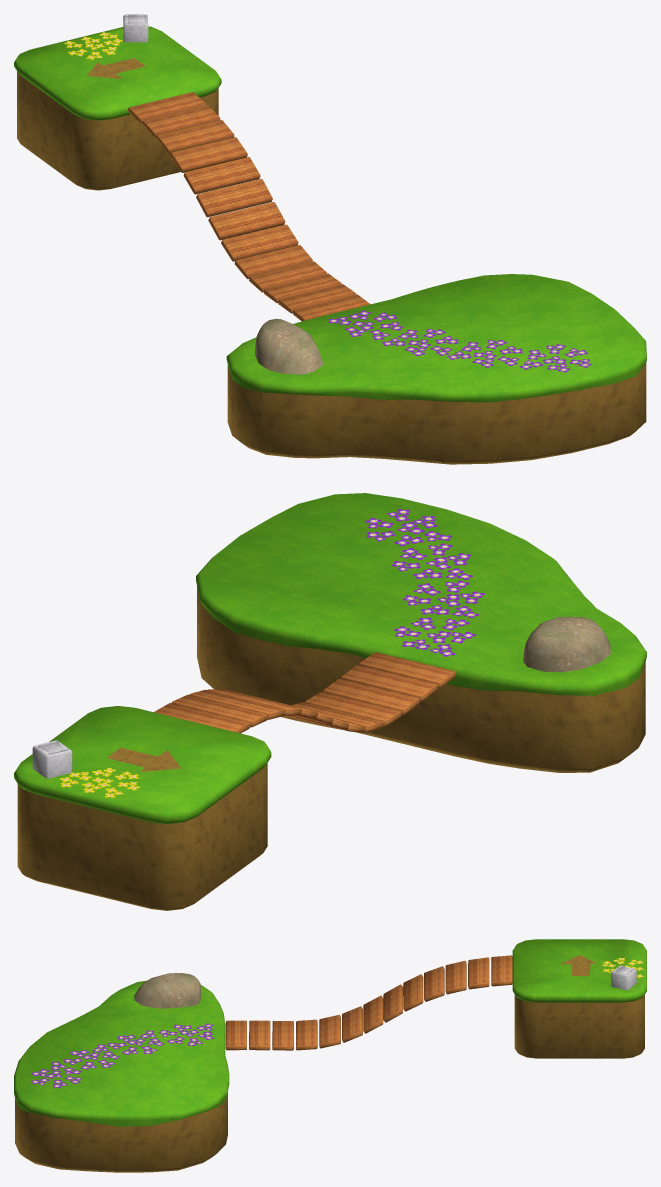
Rendered from Cloud3DStepB.fbx.
3 renders of one model, top to bottom at view 1: azimuth 30°, elevation 25°; view 2: azimuth 150°, elevation 25°; view 3: azimuth 270°, elevation 25°, orthographic. The views are drawn at different scales.
Visible parts, largest first — view 1: Plane.002, Plane.000, Plane.004, Plane.005, Plane.006, Plane.001, Plane.003; view 2: Plane.002, Plane.000, Plane.004, Plane.005, Plane.006, Plane.001, Plane.003; view 3: Plane.002, Plane.000, Plane.004, Plane.005, Plane.006, Plane.001.
Part boxes in pixels (left/top/right/bottom): Plane.002: left=14, top=26, right=646, bottom=402; Plane.000: left=17, top=58, right=646, bottom=464; Plane.004: left=128, top=92, right=369, bottom=321; Plane.005: left=328, top=310, right=591, bottom=372; Plane.006: left=255, top=318, right=323, bottom=374; Plane.001: left=123, top=14, right=148, bottom=42; Plane.003: left=64, top=32, right=122, bottom=59; Plane.002: left=14, top=493, right=646, bottom=823; Plane.000: left=17, top=586, right=645, bottom=910; Plane.004: left=154, top=652, right=455, bottom=733; Plane.005: left=366, top=509, right=484, bottom=656; Plane.006: left=523, top=617, right=610, bottom=672; Plane.001: left=32, top=740, right=72, bottom=778; Plane.003: left=60, top=767, right=139, bottom=797; Plane.002: left=14, top=939, right=646, bottom=1126; Plane.000: left=15, top=955, right=644, bottom=1172; Plane.004: left=225, top=955, right=512, bottom=1050; Plane.005: left=30, top=1023, right=213, bottom=1087; Plane.006: left=134, top=973, right=200, bottom=1008; Plane.001: left=611, top=965, right=636, bottom=990.
Bounding box in the file's own units: 93262 × 44410 × 181903.
Materials: 7 (7 with a texture image).
